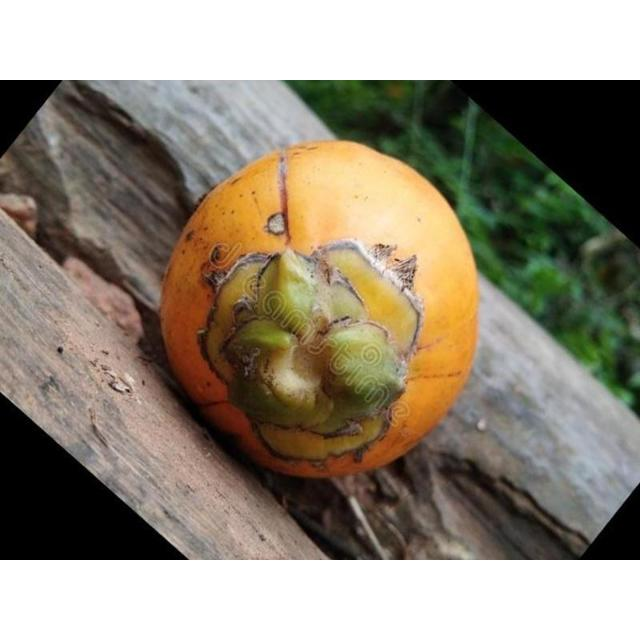good: (157, 141, 481, 486)
